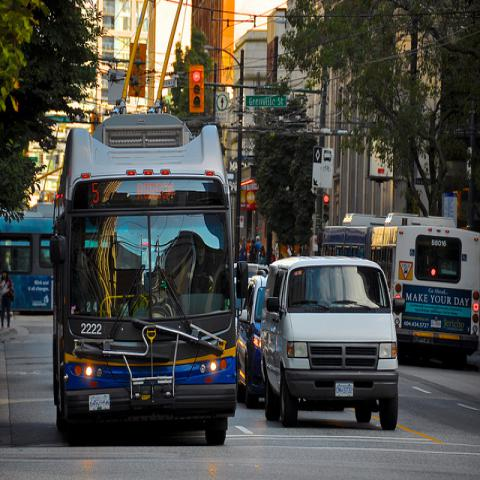bus: (53, 120, 240, 450), (321, 226, 480, 368), (0, 215, 56, 314)
car: (262, 254, 400, 430), (235, 274, 268, 411), (233, 262, 269, 308)
truck: (260, 253, 407, 434)
